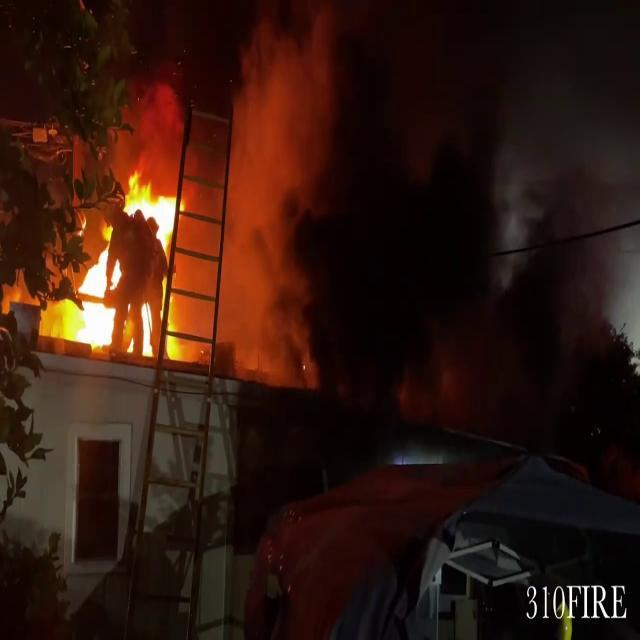Fire: (52, 164, 194, 360)
Smoke: (186, 1, 640, 408)
